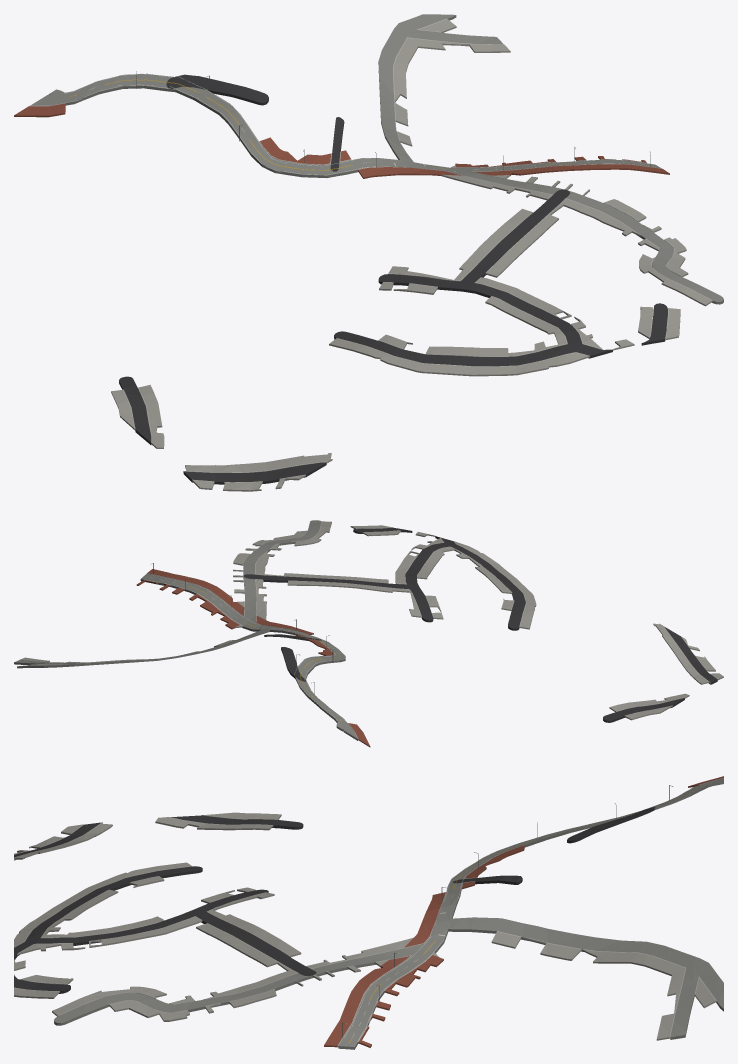
3 renders of one model, top to bottom at view 1: azimuth 30°, elevation 25°; view 2: azimuth 150°, elevation 25°; view 3: azimuth 270°, elevation 25°, orthographic. The views are drawn at different scales.
Bounding box in the file's own units: 293 × 73.84 × 291.
